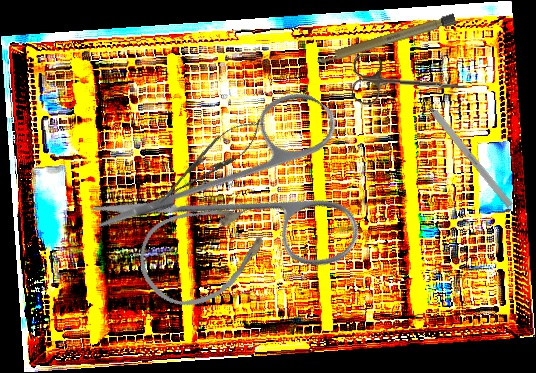Cannula: (126, 182, 285, 321)
Hook Surgical: (413, 87, 513, 208)
Iris Scissors: (85, 29, 411, 353), (351, 53, 469, 110)
Needle Holder: (148, 108, 271, 215)
Scalpel Handle: (315, 13, 457, 66)
